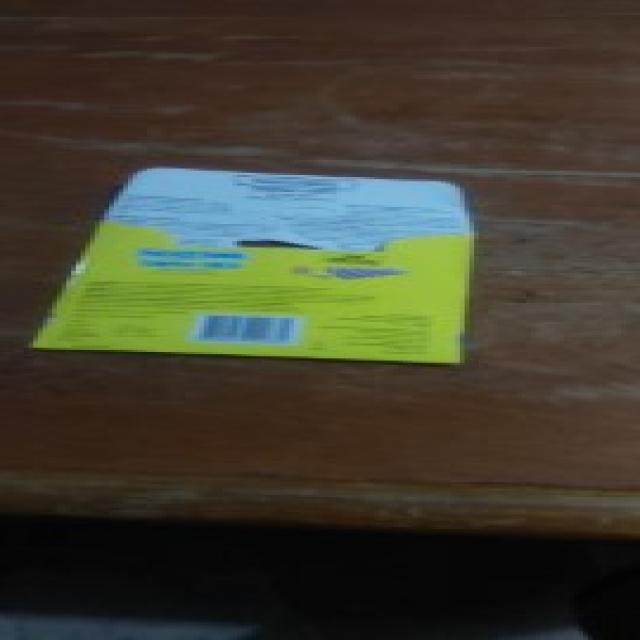Cacat: (24, 166, 474, 366)
